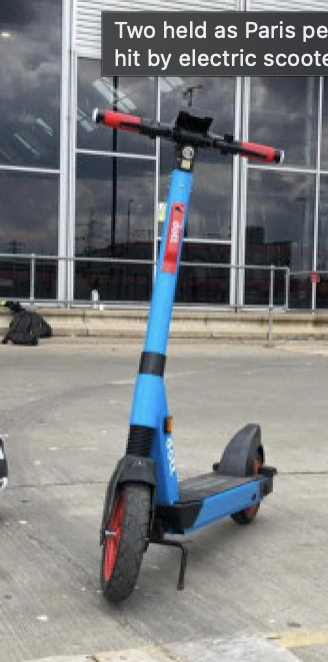scooter: (90, 104, 284, 604)
